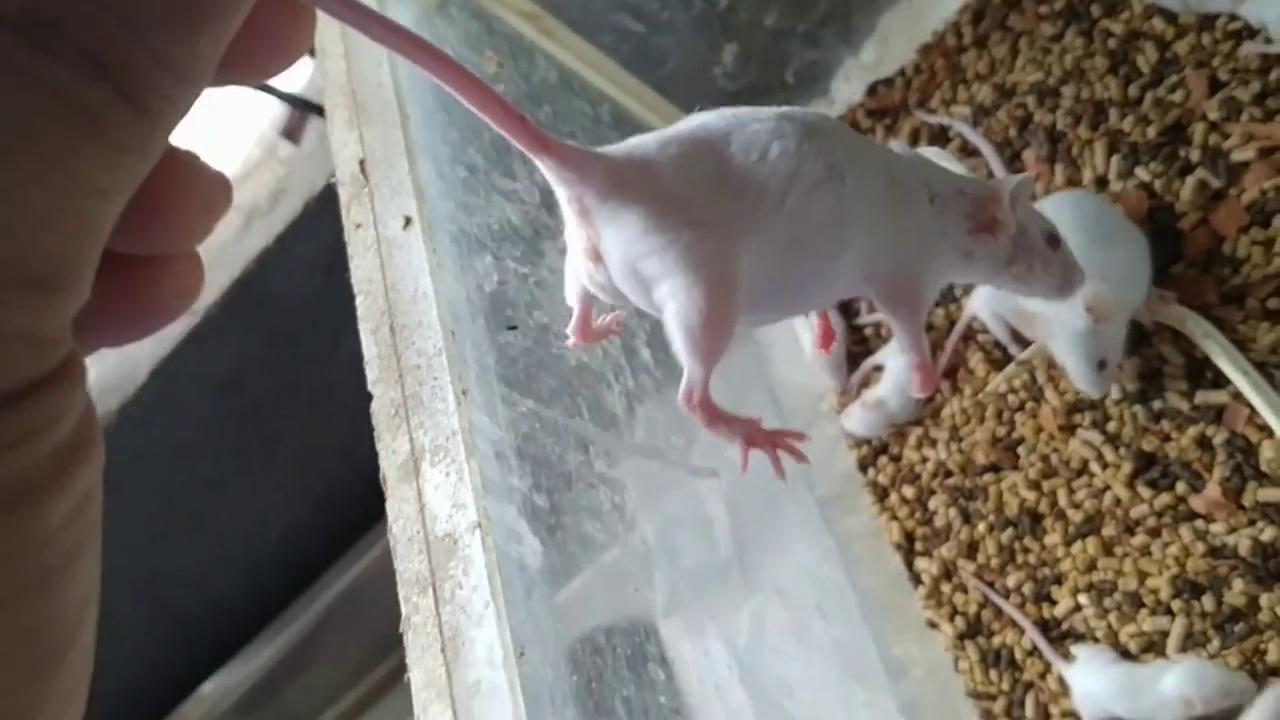rat: (292, 0, 1086, 484), (957, 565, 1259, 720), (973, 189, 1154, 397), (839, 311, 937, 439)
